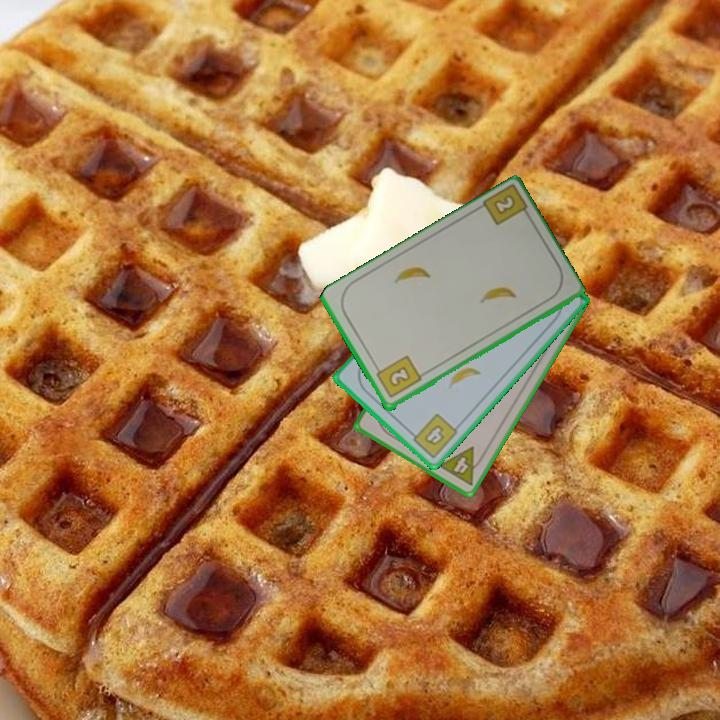2b: (371, 352, 424, 401), (478, 183, 534, 229)
4b: (405, 410, 461, 461)
4p: (435, 443, 488, 489)
